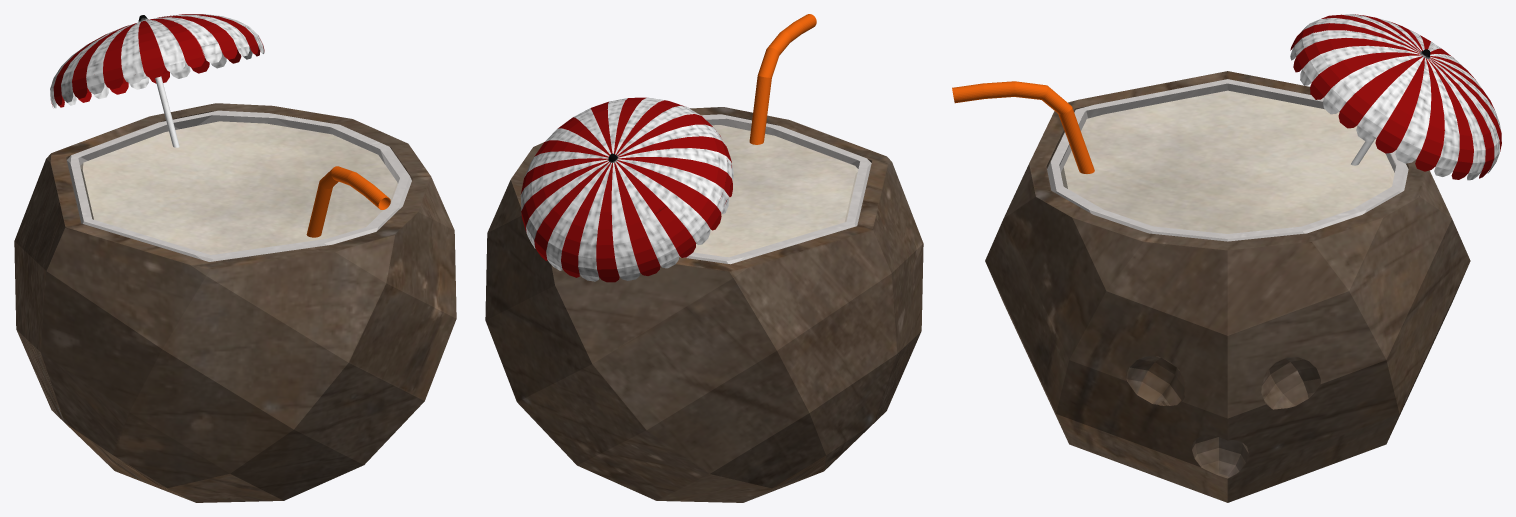
Rendered from coconutDrink.fbx.
The picture shows the model from 3 angles, left to right: view 1: azimuth 30°, elevation 25°; view 2: azimuth 150°, elevation 25°; view 3: azimuth 270°, elevation 25°; orthographic projection. The views are drawn at different scales.
Visible parts, largest first — view 1: Sphere.003; view 2: Sphere.003; view 3: Sphere.003.
Part boxes in pixels (x1,y1,x2,y2): Sphere.003: [14, 14, 456, 502]; Sphere.003: [485, 14, 923, 502]; Sphere.003: [952, 14, 1501, 502].
Size of the model in its own units: 199 by 204 by 226.
